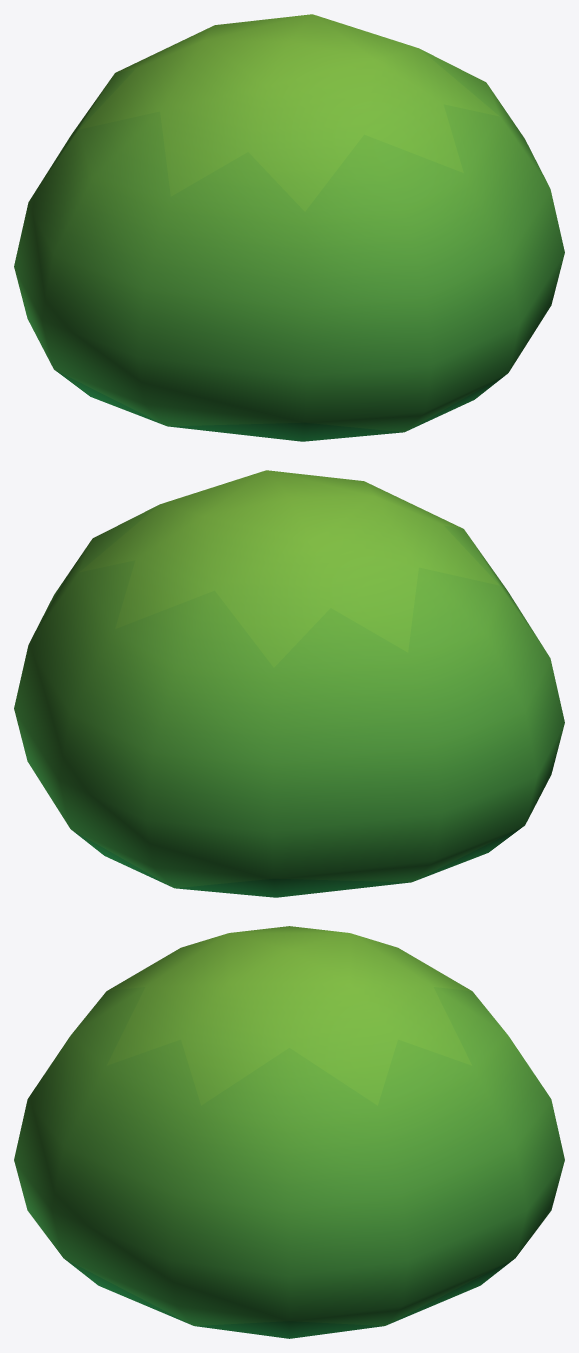
Rendered from Bush_1_D_Color1.gltf.
3 renders of one model, top to bottom at view 1: azimuth 30°, elevation 25°; view 2: azimuth 150°, elevation 25°; view 3: azimuth 270°, elevation 25°, orthographic. The views are drawn at different scales.
Parts seen in each view (by area): view 1: Bush_1_D_Color1; view 2: Bush_1_D_Color1; view 3: Bush_1_D_Color1.
Part boxes in pixels (bbox=[...]): Bush_1_D_Color1: bbox=[14, 14, 564, 441]; Bush_1_D_Color1: bbox=[14, 470, 564, 897]; Bush_1_D_Color1: bbox=[14, 926, 564, 1338].
Bounding box in the file's own units: 1.57 × 0.9937 × 1.57.
1 material, 1 textured.
